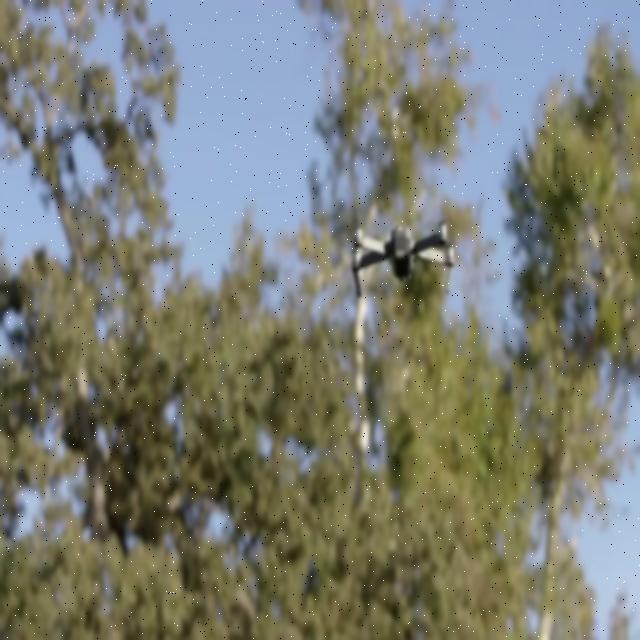UAV: (351, 218, 455, 298)
